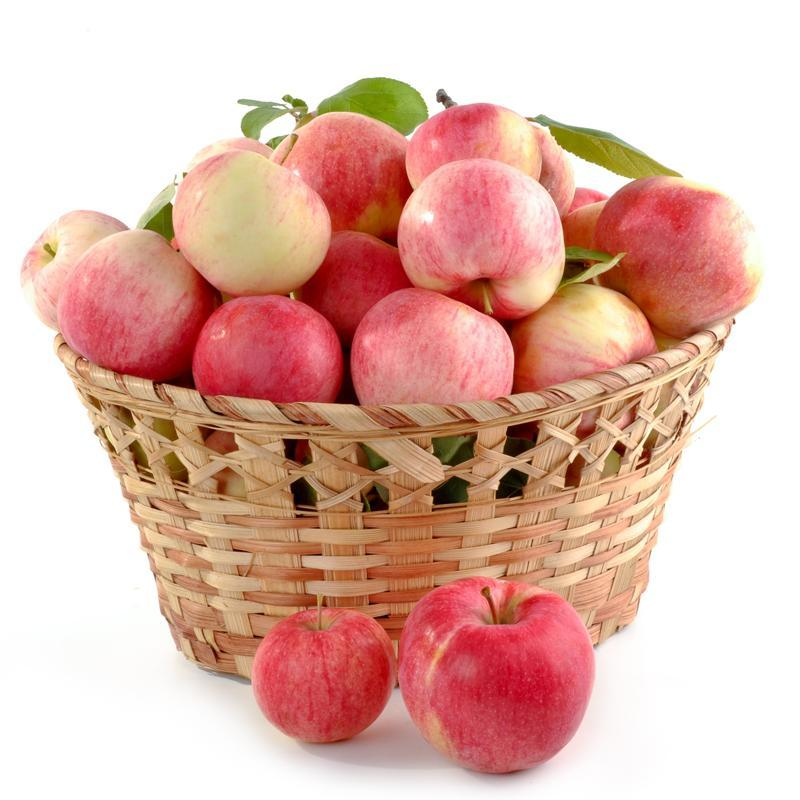apple: (396, 576, 595, 775), (593, 175, 761, 342), (397, 155, 562, 322), (54, 229, 210, 379), (174, 147, 330, 297), (249, 601, 394, 743), (347, 287, 514, 406), (191, 294, 342, 404), (513, 283, 659, 390)
